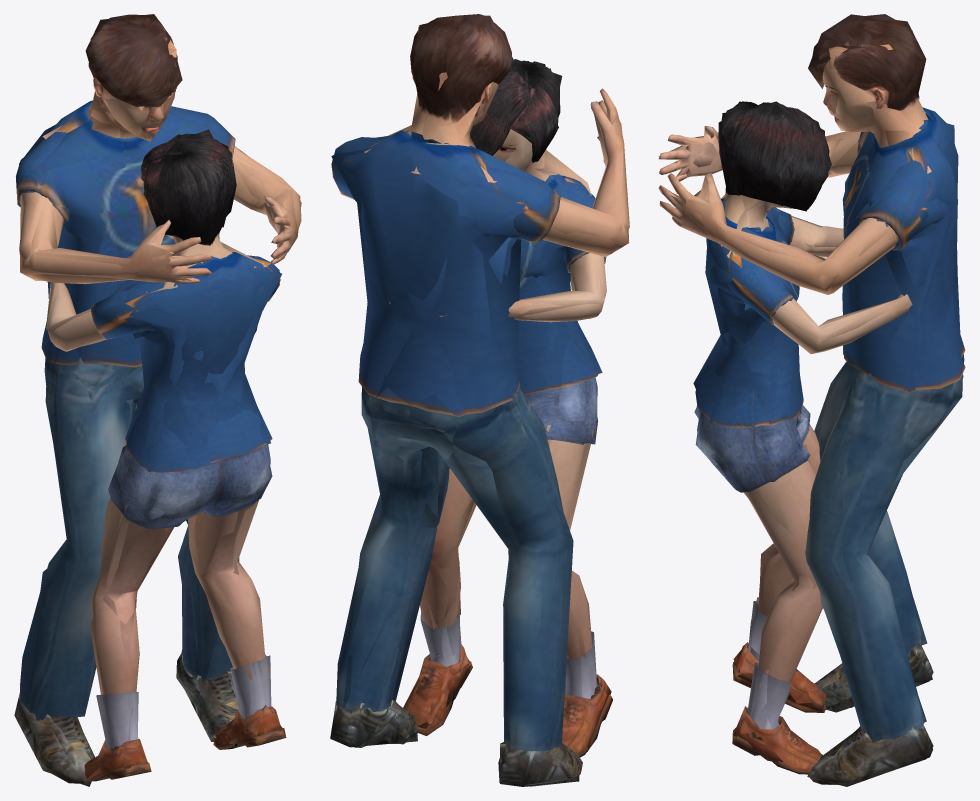
File: frozen-7.glb
The picture shows the model from 3 angles, left to right: view 1: azimuth 30°, elevation 25°; view 2: azimuth 150°, elevation 25°; view 3: azimuth 270°, elevation 25°; orthographic projection. The views are drawn at different scales.
Parts seen in each view (by area): view 1: near, far; view 2: near, far; view 3: near, far.
Boxes of the visible parts, left/top/right/bottom form: near: left=15, top=14, right=301, bottom=783; far: left=14, top=14, right=301, bottom=786; near: left=331, top=14, right=629, bottom=786; far: left=330, top=15, right=629, bottom=786; near: left=658, top=14, right=965, bottom=784; far: left=659, top=14, right=962, bottom=786.
Bounding box in the file's own units: 0.6517 × 1.6 × 0.617.
2 materials, 2 textured.
